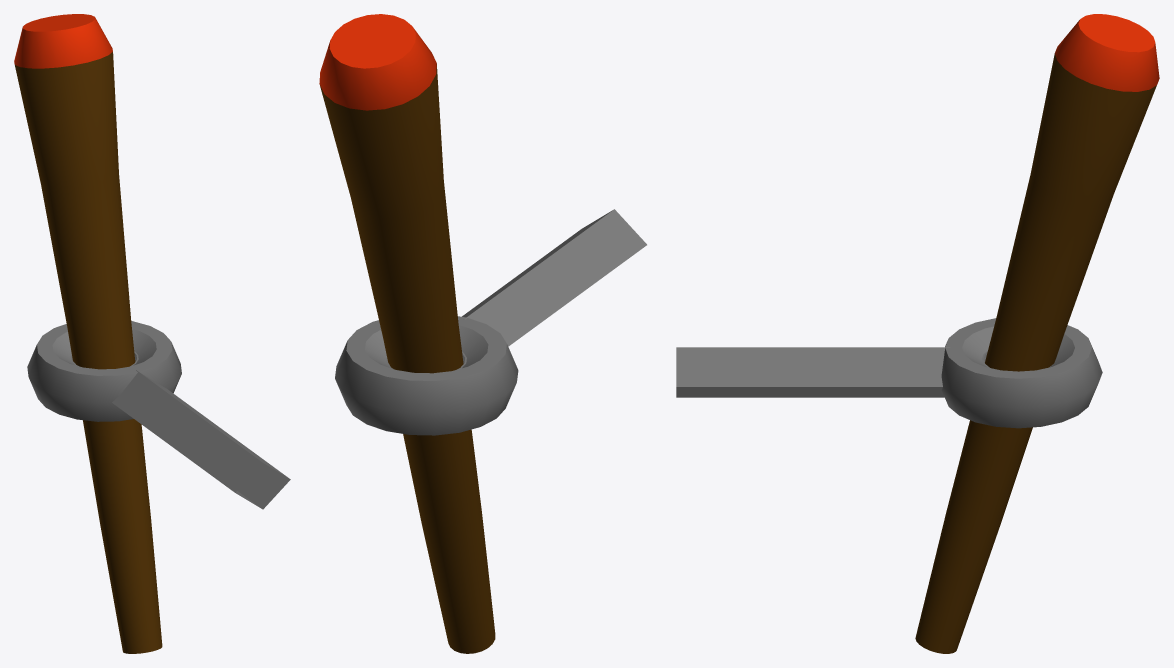
File: Torch.fbx
The picture shows the model from 3 angles, left to right: view 1: azimuth 30°, elevation 25°; view 2: azimuth 150°, elevation 25°; view 3: azimuth 270°, elevation 25°; orthographic projection. The views are drawn at different scales.
Visible parts, largest first — view 1: polySurface4; view 2: polySurface4; view 3: polySurface4.
Boxes of the visible parts, left/top/right/bottom form: polySurface4: left=14, top=14, right=290, bottom=653; polySurface4: left=319, top=14, right=646, bottom=653; polySurface4: left=676, top=14, right=1159, bottom=653.
Size of the model in its own units: 0.9752 by 4 by 2.8.
